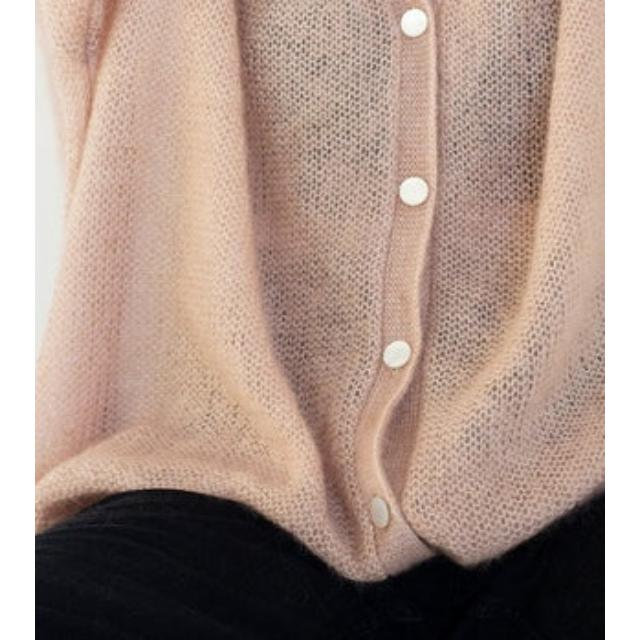wool: (35, 0, 605, 502)
